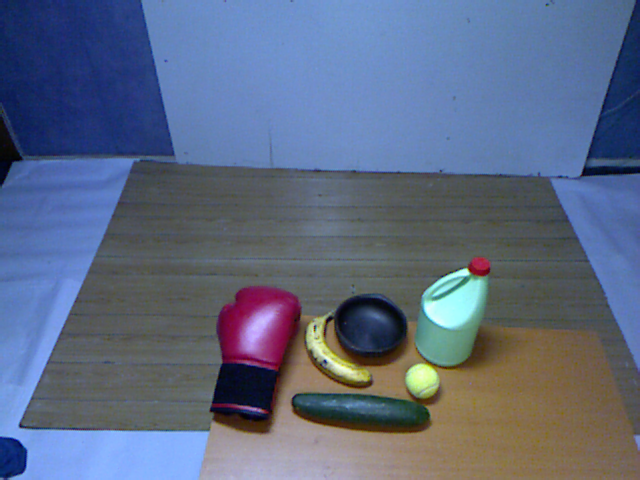cloroplano: (413, 251, 493, 371)
greda: (331, 291, 411, 366)
guante: (206, 282, 305, 426)
pelota: (401, 358, 443, 401)
pepino: (284, 388, 433, 436)
platano: (299, 306, 376, 391)
